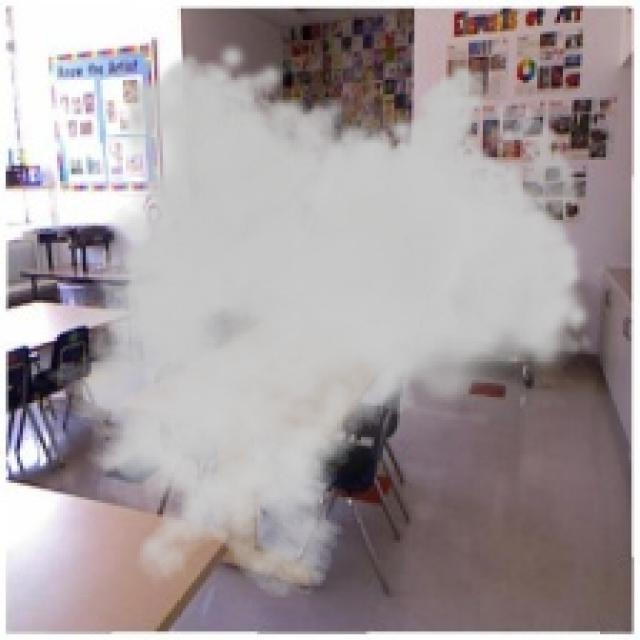smoke: (26, 40, 594, 600)
